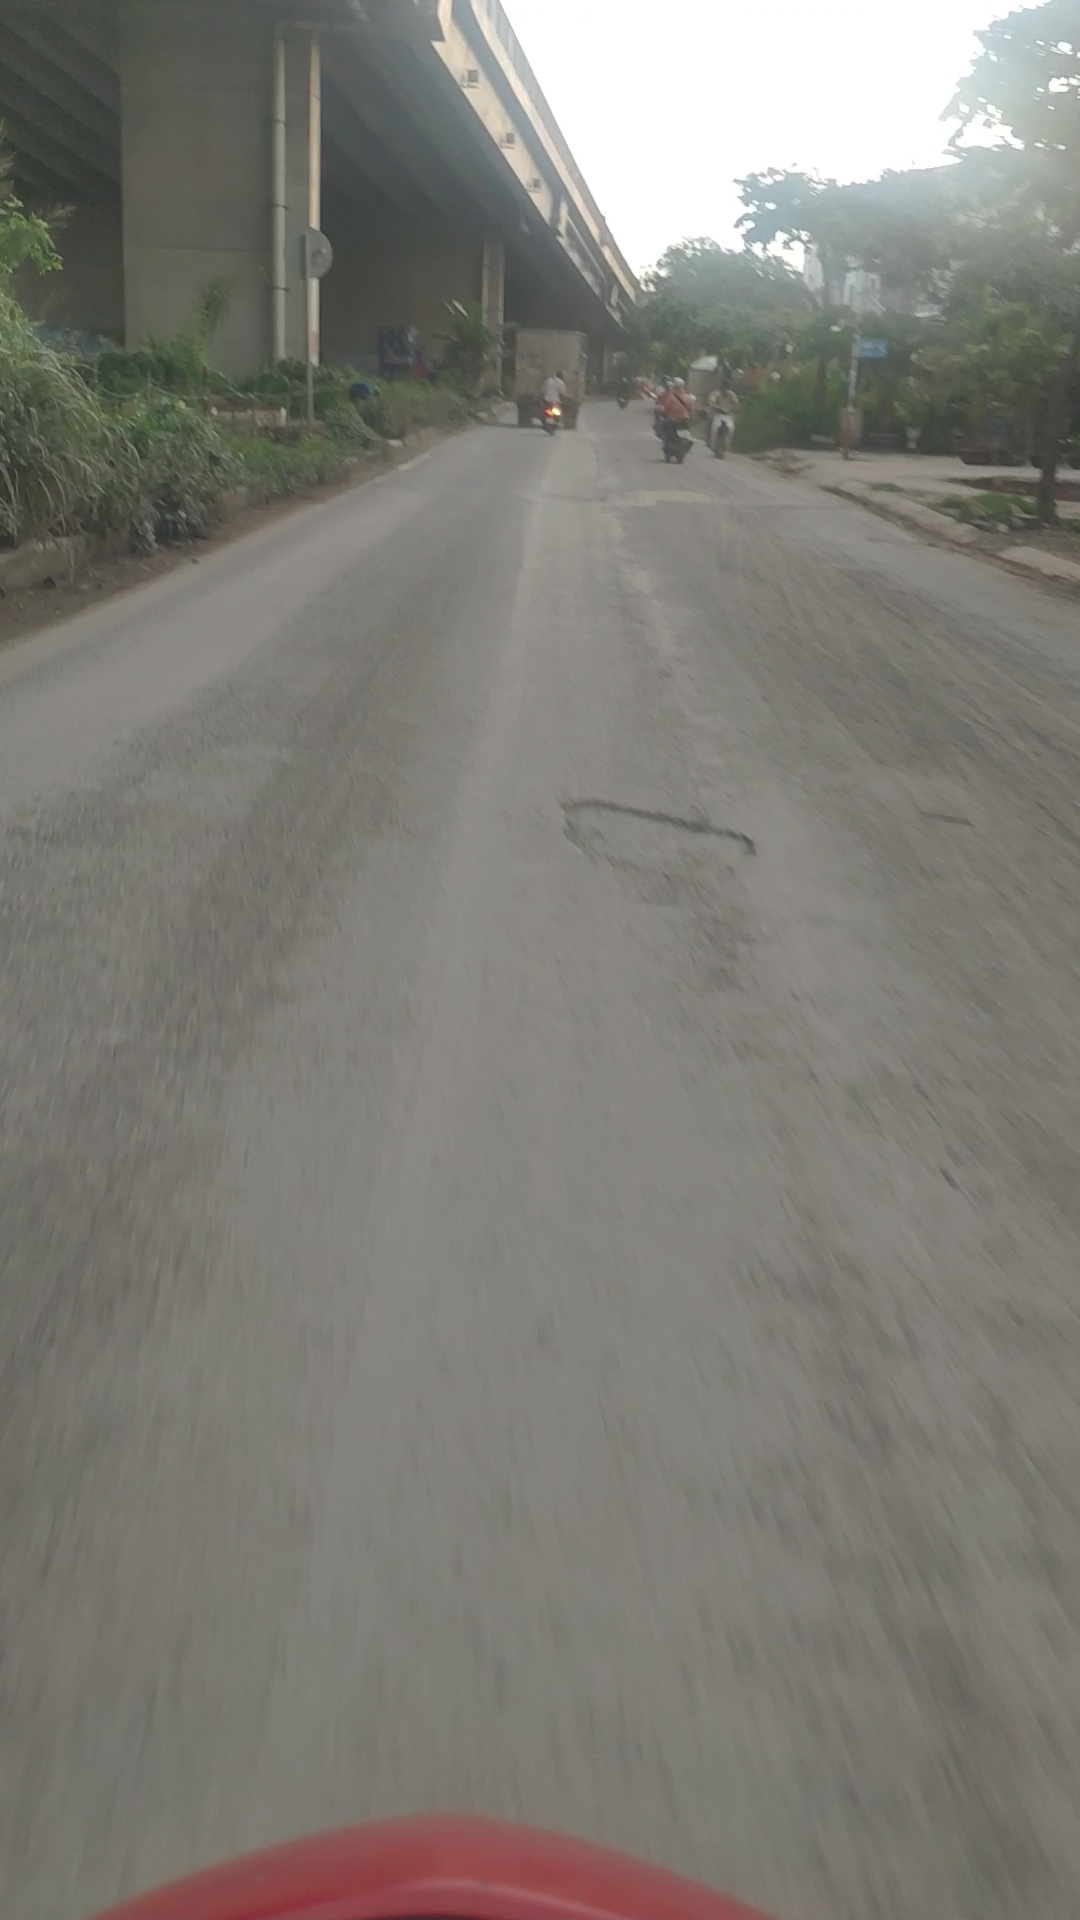hole: (547, 783, 779, 905)
